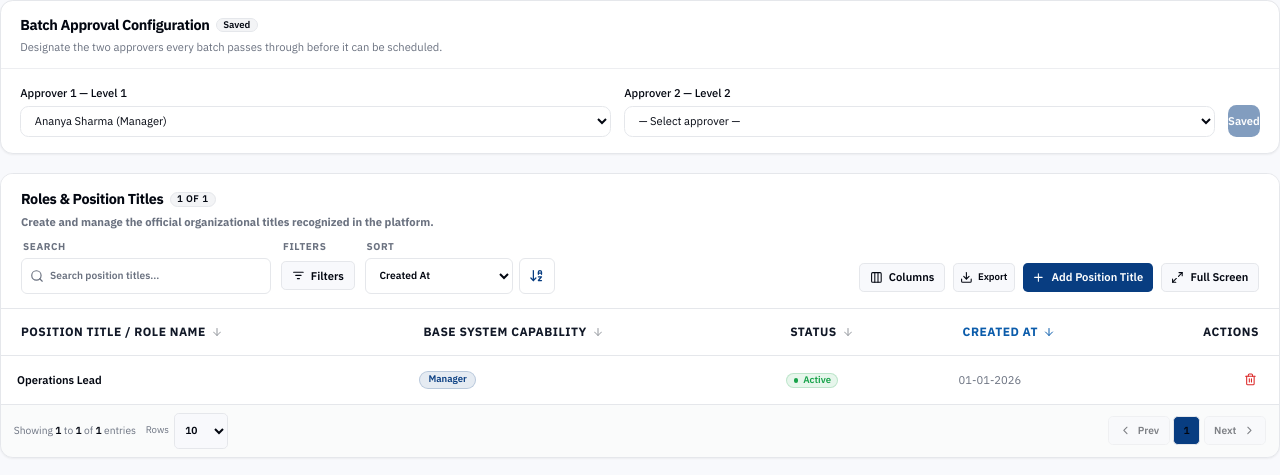
Scenario: admin tabs › only offers a save button once the approvers actually change
The width and height of the screenshot is (1280, 475).
Expected: the button "Saved" is disabled, left=1228, top=105, right=1260, bottom=137
Select "Ananya Sharma (Manager)" in the dropdown labelled "Approver 2 — Level 2": (920, 121) left=624, top=106, right=1215, bottom=137
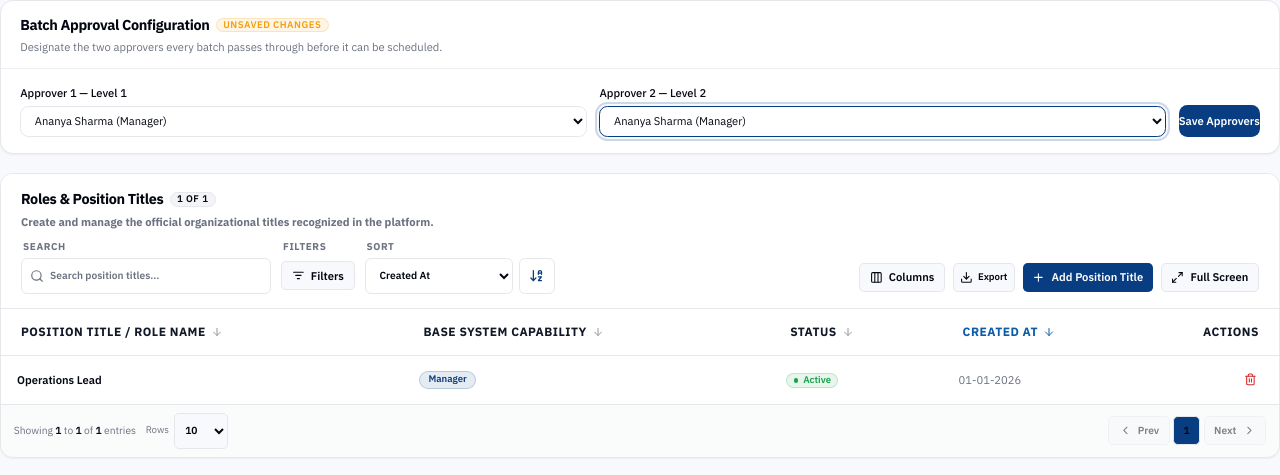
Result: the button "Save Approvers" is enabled at left=1179, top=105, right=1260, bottom=137
